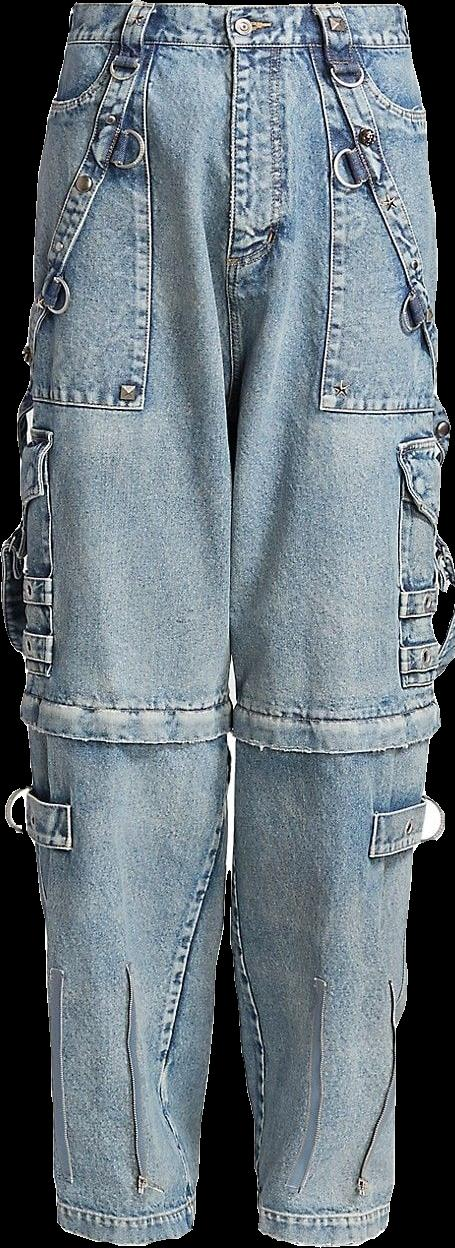Hemline: (53, 1212, 198, 1247), (255, 1216, 388, 1247)
Pantleg: (225, 1, 449, 1247), (13, 0, 228, 1245)
Waistline: (62, 29, 411, 55), (66, 0, 404, 20)
